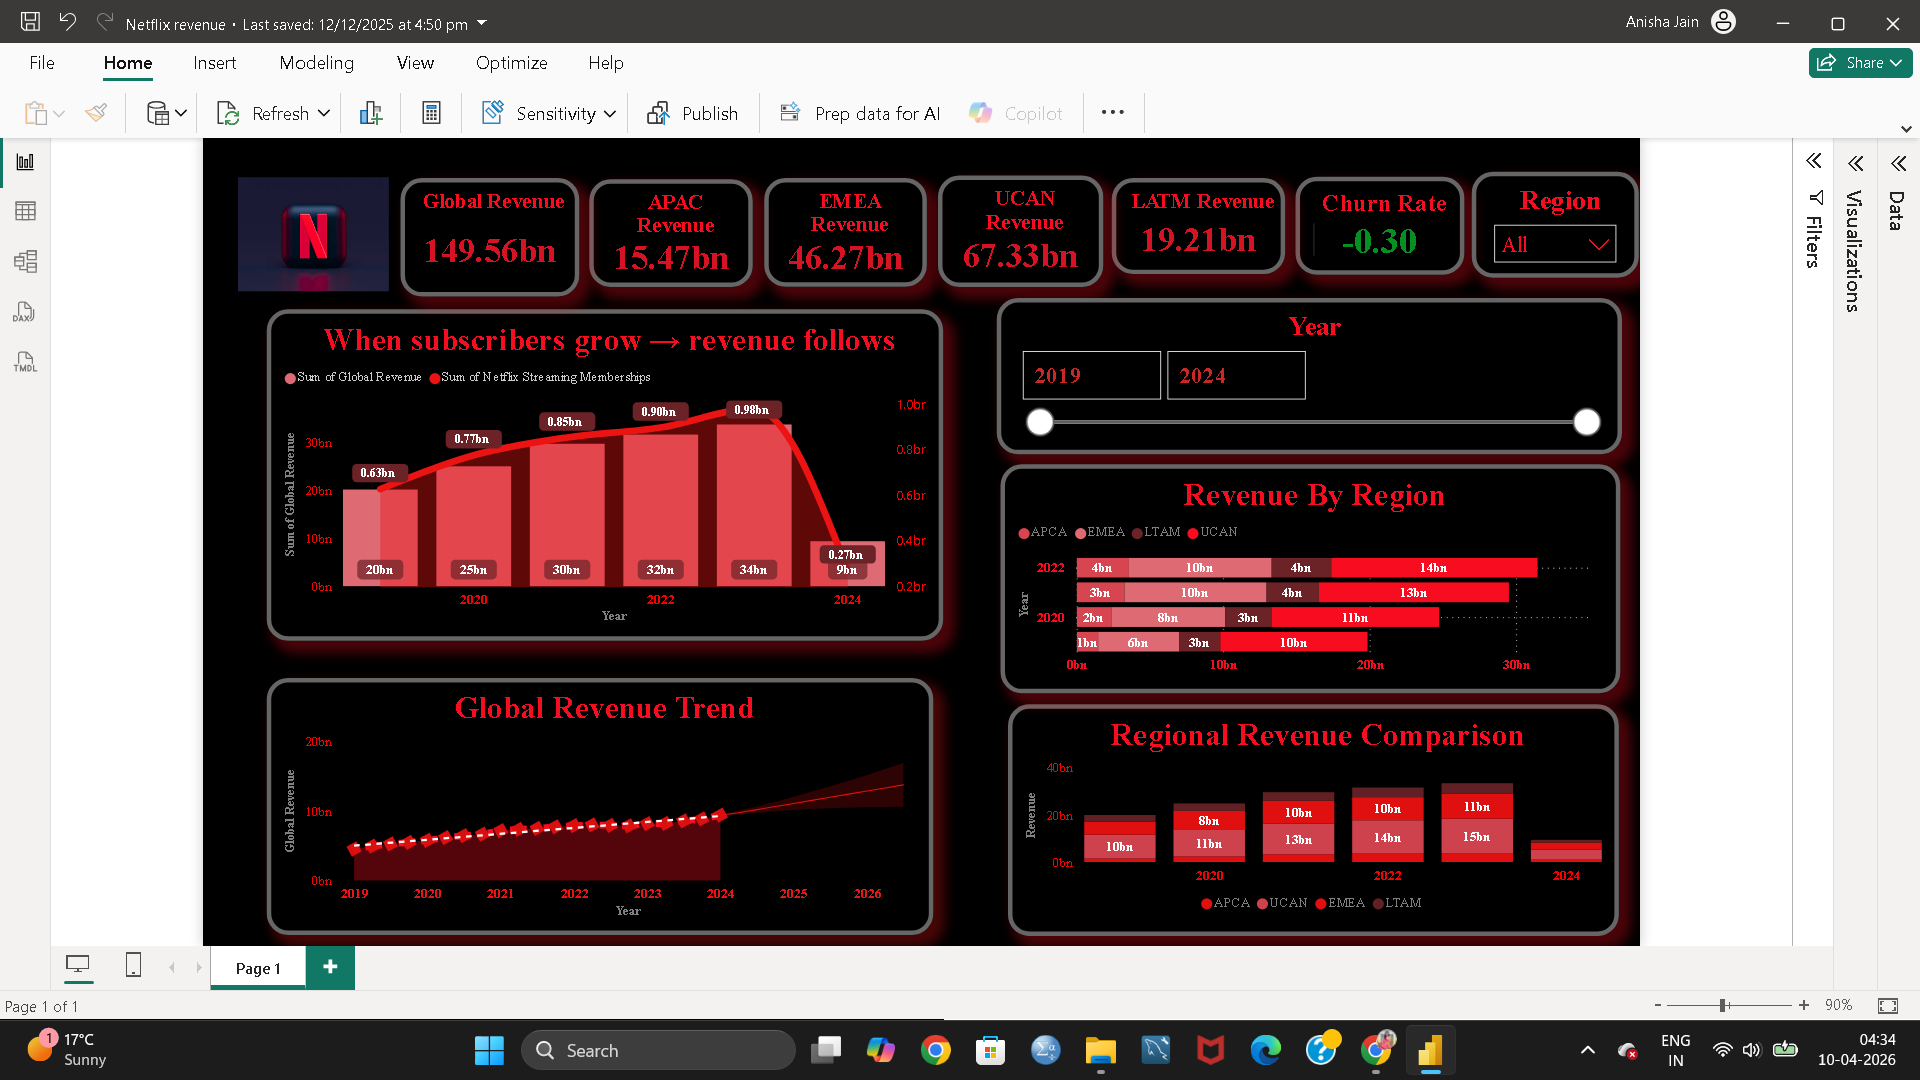

The dashboard page shown, as its layout file describes it:
{"tool":"powerbi","page":{"name":"Page 1","canvas":[1280,720],"ordinal":0},"visuals":[{"type":"cardVisual","title":"Churn Rate","fields":{"Data":["Income and loss.Churn Rate (%)"]},"box":[972.9,34.5,150.3,86.8],"z":0},{"type":"card","title":"APAC Revenue","fields":{"Values":["Income and loss.Total APCA"]},"box":[344,36.7,145.8,95.7],"z":1000},{"type":"card","title":"EMEA Revenue","fields":{"Values":["Income and loss.EMEA"]},"box":[499.8,35.6,144.7,96.8],"z":2000},{"type":"card","title":"LATM Revenue","fields":{"Values":["Income and loss.LTAM"]},"box":[809.3,35.6,154.7,85.7],"z":3000},{"type":"card","title":"UCAN Revenue","fields":{"Values":["Income and loss.UCAN"]},"box":[654.5,33.4,146.9,99.1],"z":4000},{"type":"lineChart","title":"Global Revenue Trend","fields":{"Category":["Netflix Updated.Date.Variation.Date Hierarchy.Year","Netflix Updated.Date.Variation.Date Hierarchy.Quarter"],"Y":["Sum(Netflix Updated.Global Revenue)"]},"box":[56.2,481.2,593.8,228.8],"z":5000},{"type":"columnChart","title":"Regional Revenue Comparison","fields":{"Category":["Netflix Updated.Year"],"Y":["Income and loss.APCA Revenue","Income and loss.UCAN","Income and loss.EMEA","Income and loss.LTAM"]},"box":[716.6,504.3,544.1,206.3],"z":6000},{"type":"slicer","title":"Year","fields":{"Values":["Netflix Updated.Year"]},"box":[706.9,142.5,556.6,139.1],"z":7000},{"type":"lineStackedColumnComboChart","title":"When subscribers grow → revenue follows","fields":{"Category":["Netflix Updated.Year"],"Y":["Sum(Netflix Updated.Global Revenue)"],"Y2":["Sum(Netflix Updated.Netflix Streaming Memberships )"]},"box":[56.2,152.5,602.5,295],"z":8000},{"type":"slicer","title":"Region","fields":{"Values":["RRegion (2).Region"]},"box":[1129.9,30.1,149.2,94.6],"z":9000},{"type":"card","title":"Global Revenue","fields":{"Values":["Sum(Netflix Updated.Global Revenue)"]},"box":[175.9,35.6,159.2,105.8],"z":10000},{"type":"barChart","title":"Revenue By Region ","fields":{"Category":["Income and loss.Year"],"Y":["Income and loss.APCA","Income and loss.EMEA","Income and loss.LTAM","Income and loss.UCAN"]},"box":[710.2,290.5,552.1,203.7],"z":11000},{"type":"image","box":[31.2,18.9,134.7,133.6],"z":12000}]}

Visuals, with their boxes on the page's 1280x720 design canvas (x1, y1, x2, y2). These are canvas units, not pixel positions in the 1920x1080 screenshot, which may show the page scaled, cropped or inside an application window:
"Churn Rate" cardVisual: pyautogui.locateOnScreen(973, 34, 1123, 121)
"APAC Revenue" card: pyautogui.locateOnScreen(344, 37, 490, 132)
"EMEA Revenue" card: pyautogui.locateOnScreen(500, 36, 644, 132)
"LATM Revenue" card: pyautogui.locateOnScreen(809, 36, 964, 121)
"UCAN Revenue" card: pyautogui.locateOnScreen(654, 33, 801, 132)
"Global Revenue Trend" lineChart: pyautogui.locateOnScreen(56, 481, 650, 710)
"Regional Revenue Comparison" columnChart: pyautogui.locateOnScreen(717, 504, 1261, 711)
"Year" slicer: pyautogui.locateOnScreen(707, 142, 1264, 282)
"When subscribers grow → revenue follows" lineStackedColumnComboChart: pyautogui.locateOnScreen(56, 152, 659, 448)
"Region" slicer: pyautogui.locateOnScreen(1130, 30, 1279, 125)
"Global Revenue" card: pyautogui.locateOnScreen(176, 36, 335, 141)
"Revenue By Region " barChart: pyautogui.locateOnScreen(710, 290, 1262, 494)
image: pyautogui.locateOnScreen(31, 19, 166, 152)
